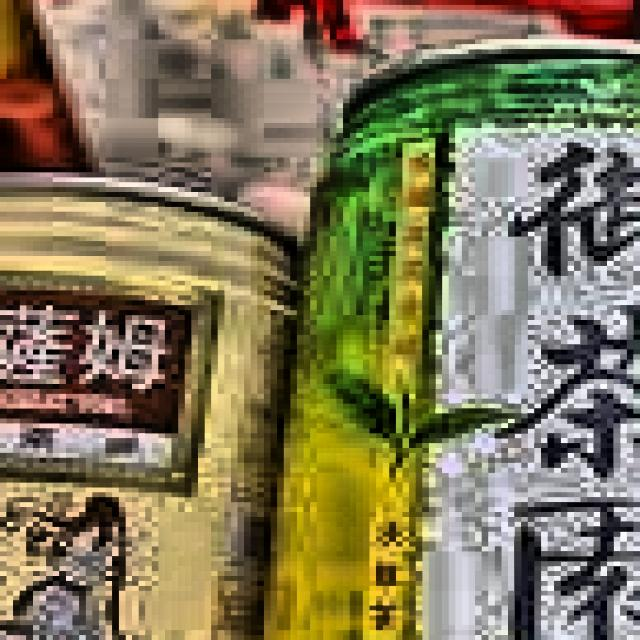metal: (231, 29, 640, 640), (0, 167, 317, 640)
